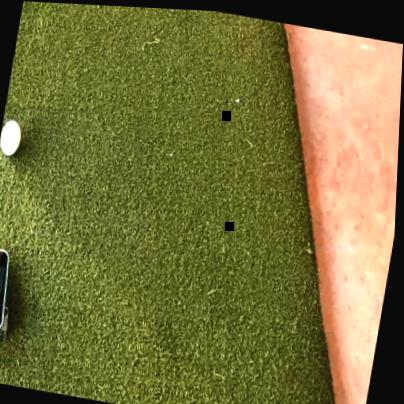ClubHead: (0, 111, 26, 160)
